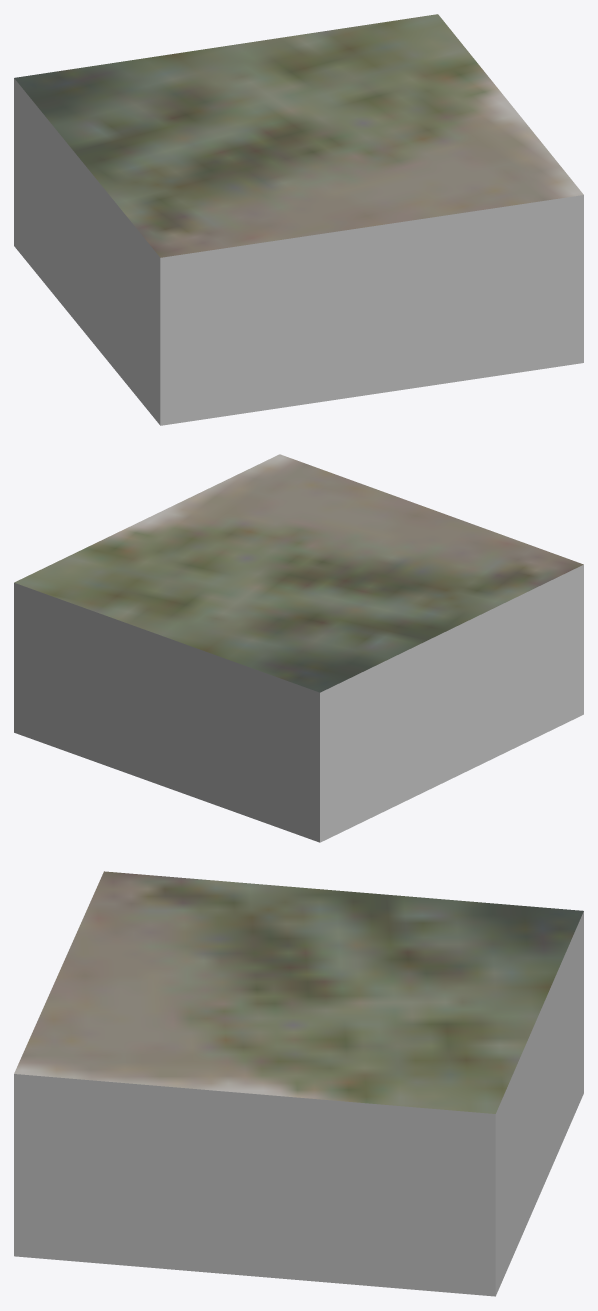
File: DEBW_0010007TxhA.gltf
3 renders of one model, top to bottom at view 1: azimuth 30°, elevation 25°; view 2: azimuth 150°, elevation 25°; view 3: azimuth 270°, elevation 25°, orthographic. The views are drawn at different scales.
Parts seen in each view (by area): view 1: Z_UP; view 2: Z_UP; view 3: Z_UP.
Boxes of the visible parts, x1=… form: Z_UP: x1=14, y1=14, x2=583, y2=425; Z_UP: x1=14, y1=454, x2=583, y2=842; Z_UP: x1=14, y1=871, x2=583, y2=1296.
Size of the model in its own units: 6.7 by 2.35 by 6.65.
Materials: 2 (1 with a texture image).
